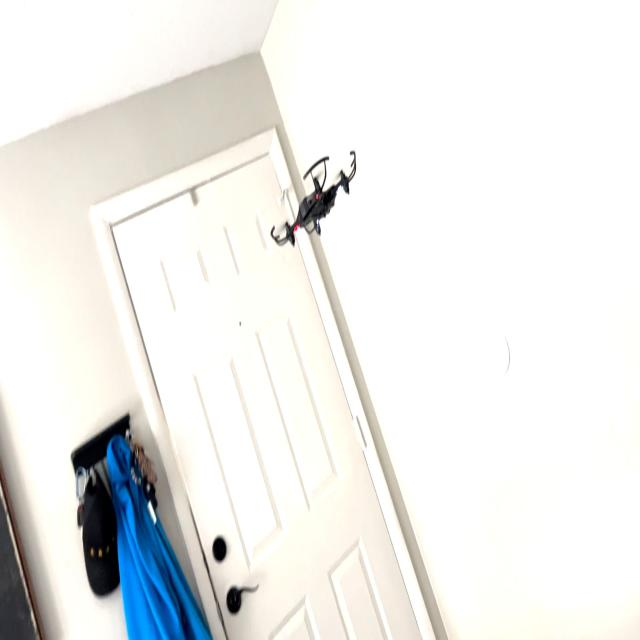drone: (266, 140, 362, 256)
